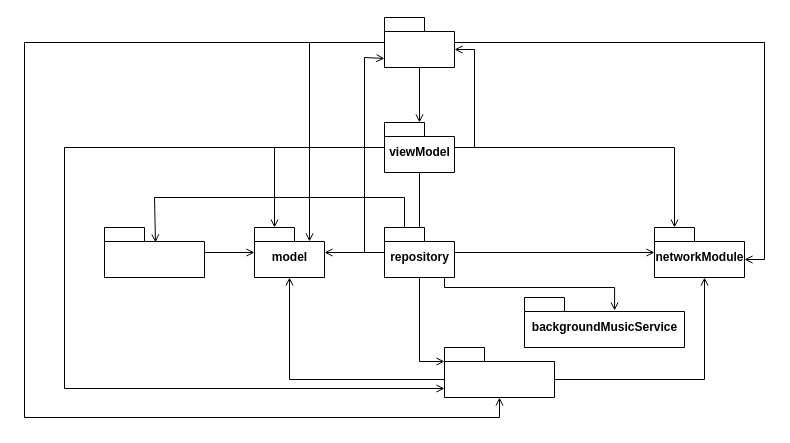
Image size: 790x443. Some labels were removed from this diagram. The shapes that lost their labels are listed below. From the top down, each one's centre as x and y in pixels, then its label:
At [419,42]: "view".
At [154,252]: "databaseService".
At [499,372]: "applicationEvents".
